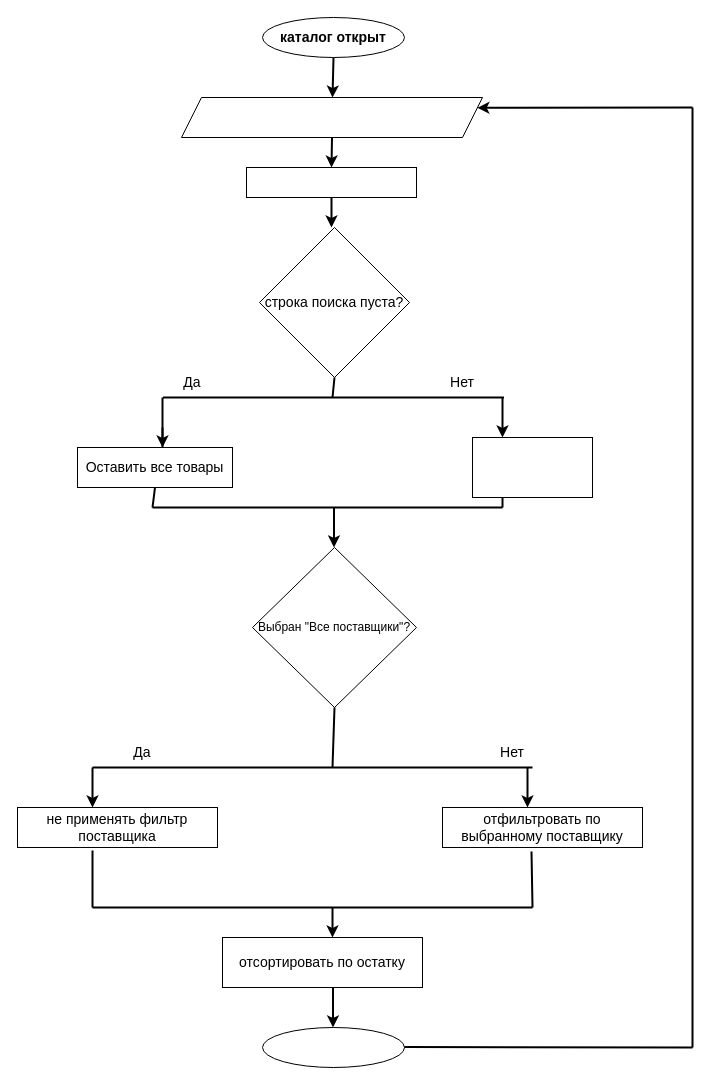
Some shapes in this 719 by 1085 pixel diagram are drawn without their labels. Each missing label, with the centre of its shape:
изменить поиск, поставщика или сортировку: pixel 331 117
найти совпадения по всем текстовым поляим: pixel 532 467
получить список товаров из БД: pixel 331 182
Сразу обновить список: pixel 333 1047
